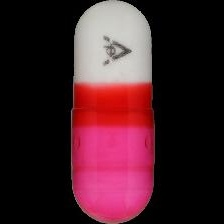0603-3339: (0, 0, 224, 224)
